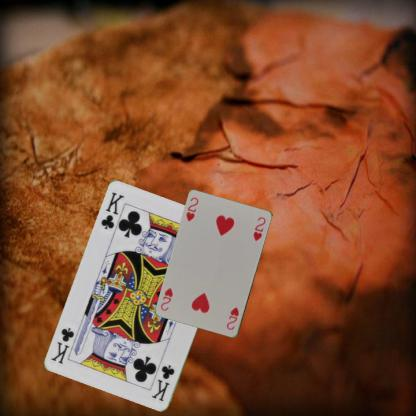2h: (184, 195, 200, 223), (224, 305, 240, 332)
Kc: (98, 190, 126, 231), (149, 363, 176, 403)
